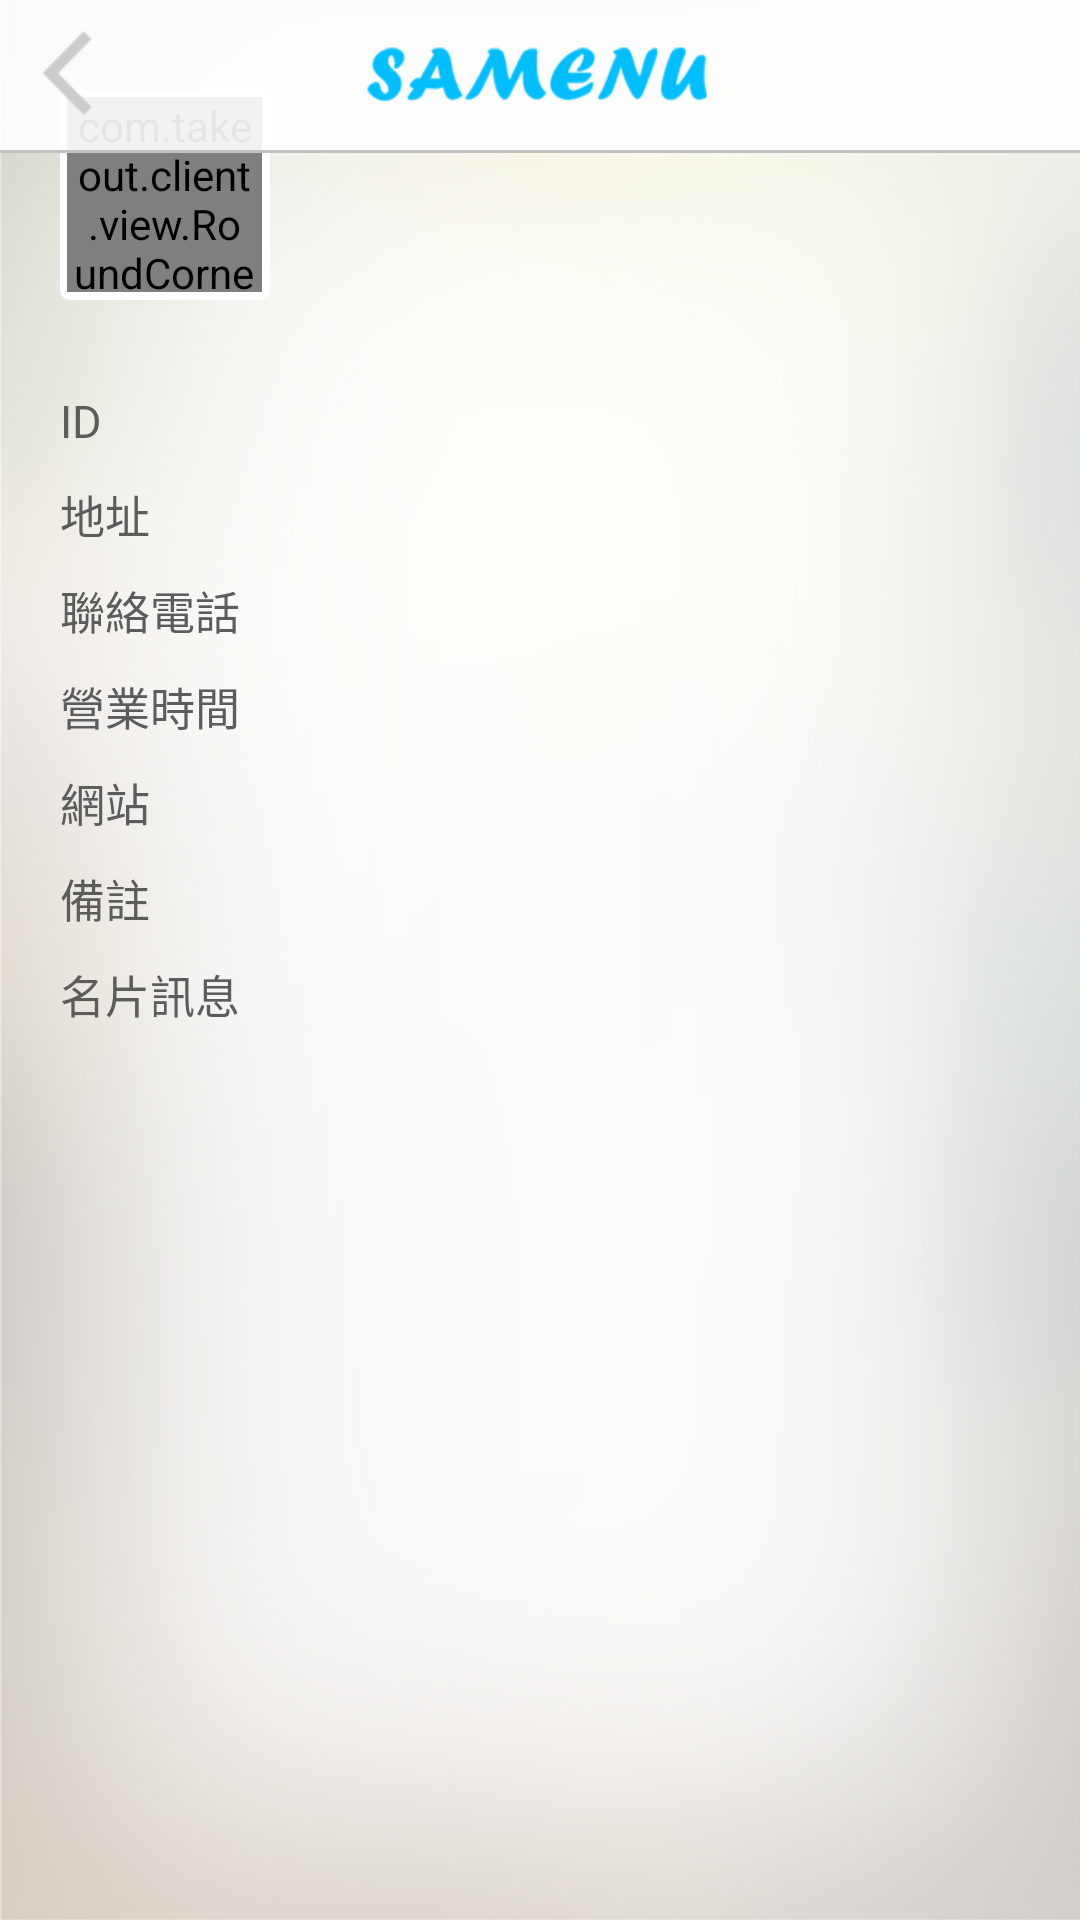

Icons on this 1080*1920 Android screen, each with its box as bbox=[x1, y1, x2, y2]:
back: bbox=[43, 32, 91, 115]
